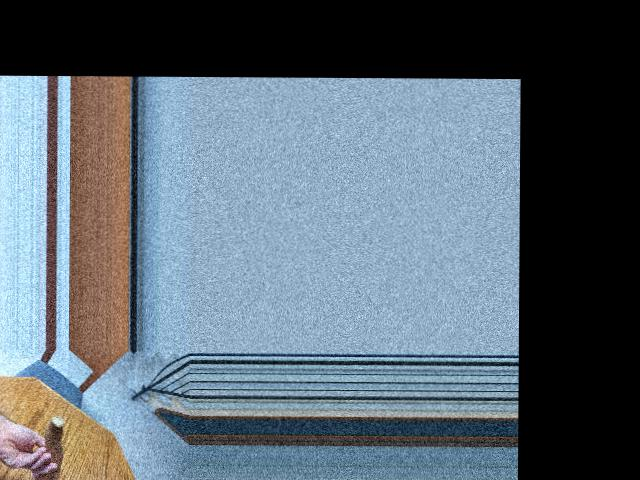sweet_potato: (35, 414, 66, 480)
